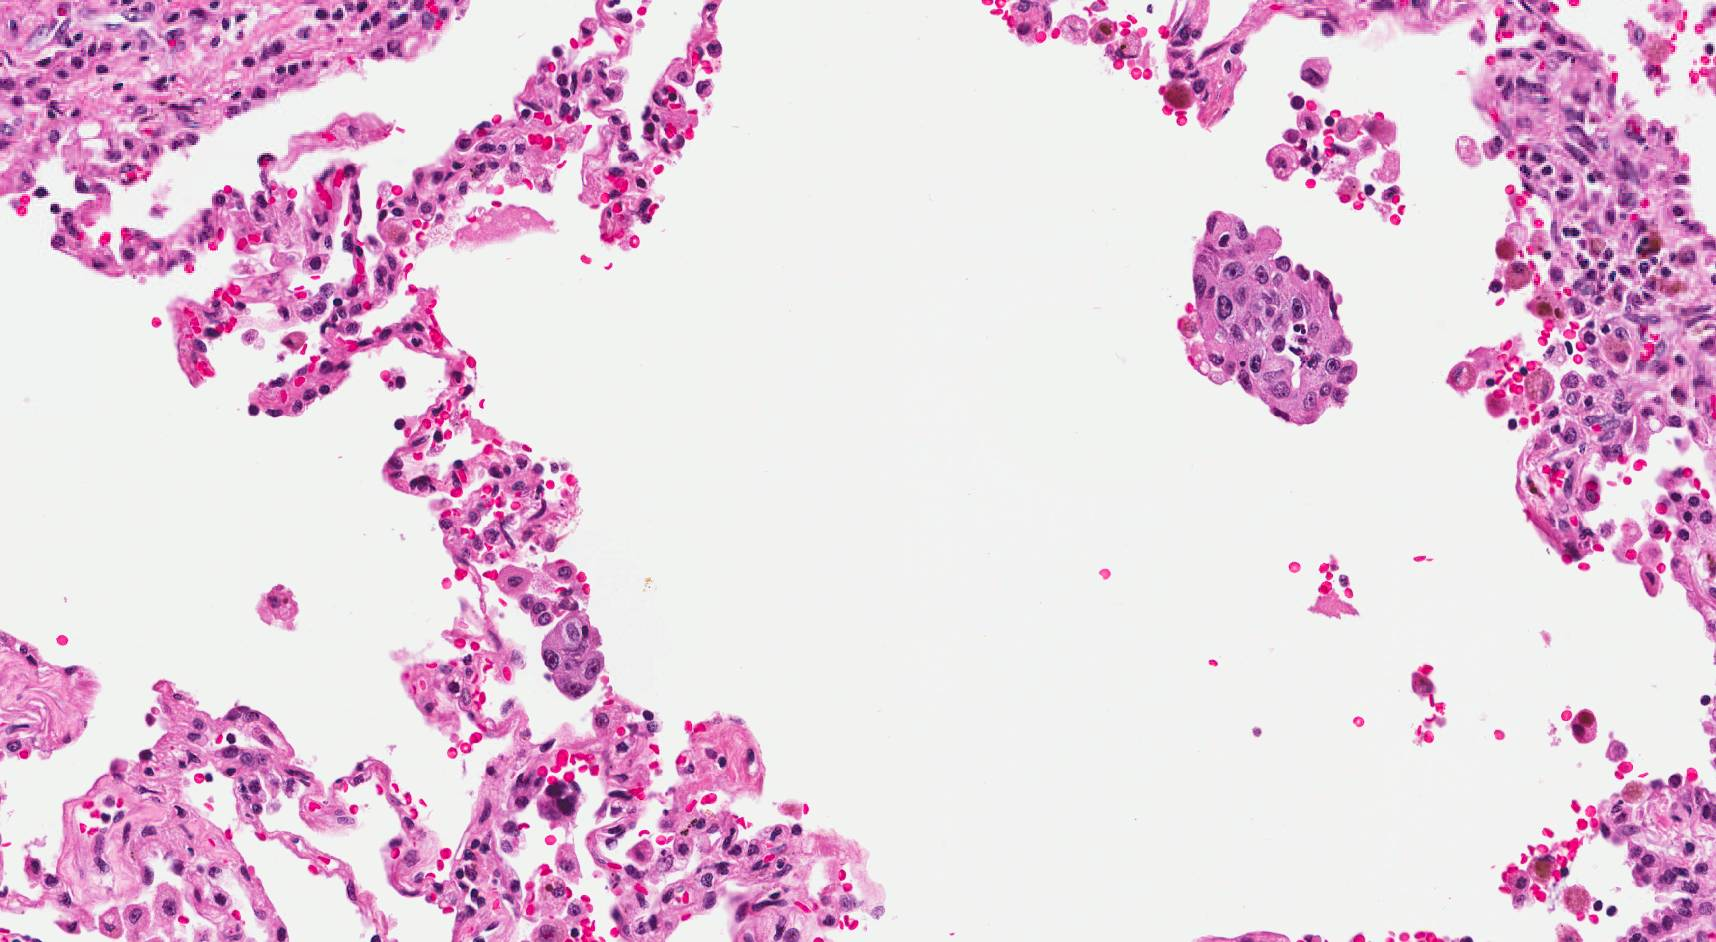stas: (1185, 207, 1363, 429), (540, 613, 610, 699)
